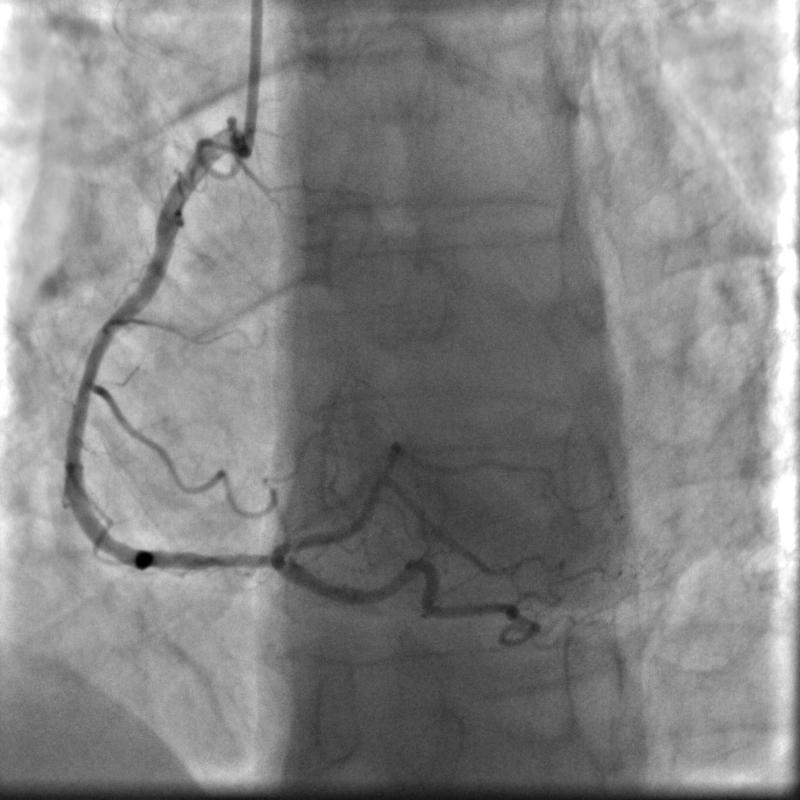Stenosis: (180, 540, 277, 580)
